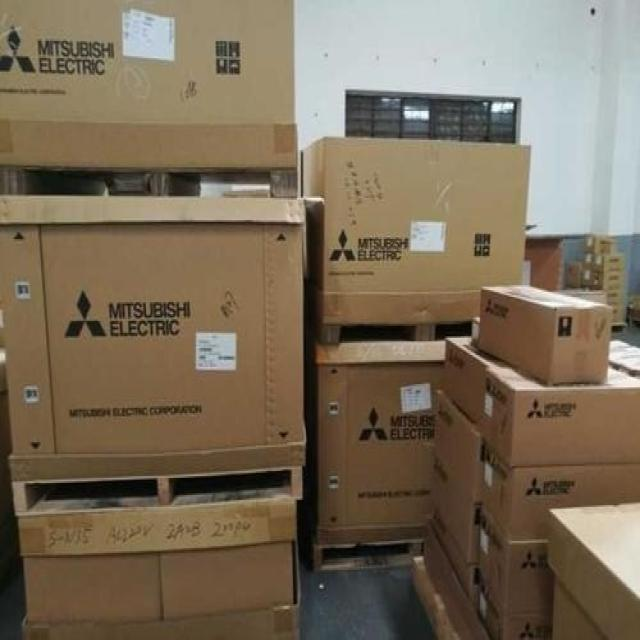box: (0, 195, 305, 452), (302, 138, 531, 292), (23, 543, 294, 625), (317, 362, 444, 526), (483, 437, 640, 539), (484, 365, 640, 466), (477, 285, 611, 386), (545, 502, 640, 640), (480, 500, 556, 614), (443, 335, 512, 433), (431, 386, 484, 503), (428, 451, 480, 563), (477, 567, 553, 640), (430, 507, 477, 611), (521, 234, 562, 292), (584, 236, 614, 254), (593, 253, 623, 271), (594, 271, 623, 288), (603, 285, 622, 304), (567, 263, 581, 287), (580, 266, 594, 287), (609, 304, 623, 321), (582, 254, 593, 271)
